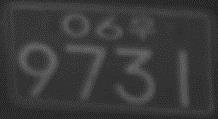0: (60, 12, 91, 38)
1: (163, 49, 203, 109)
3: (113, 45, 156, 105)
6: (96, 13, 123, 41)
7: (64, 43, 106, 99)
9: (17, 41, 58, 97)
우: (127, 13, 158, 42)
